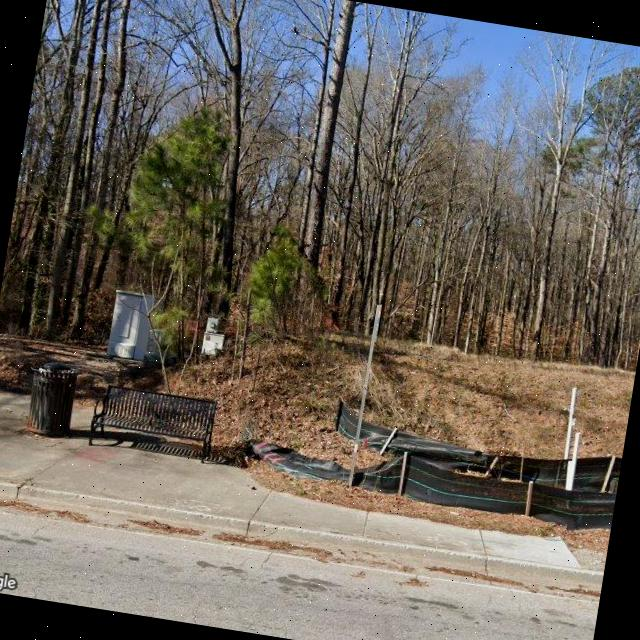seating: (86, 378, 220, 467)
trash_can: (20, 359, 81, 442)
